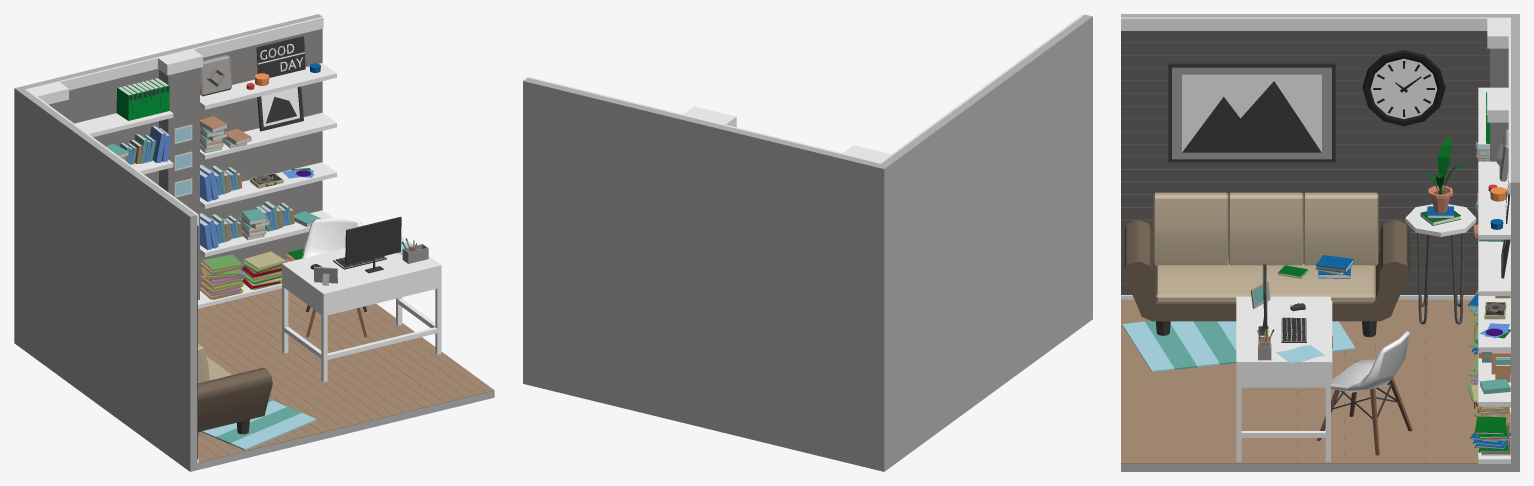
Rendered from env_office.glb.
3 renders of one model, left to right at view 1: azimuth 30°, elevation 25°; view 2: azimuth 150°, elevation 25°; view 3: azimuth 270°, elevation 25°, orthographic. The views are drawn at different scales.
Visible parts, largest first — view 1: Object_2; view 2: Object_2; view 3: Object_2.
Boxes of the visible parts, bbox=[...] form: Object_2: bbox=[14, 14, 494, 471]; Object_2: bbox=[523, 14, 1092, 471]; Object_2: bbox=[1121, 14, 1519, 471].
Size of the model in its own units: 503 by 401 by 500.
Materials: 1 (1 with a texture image).
